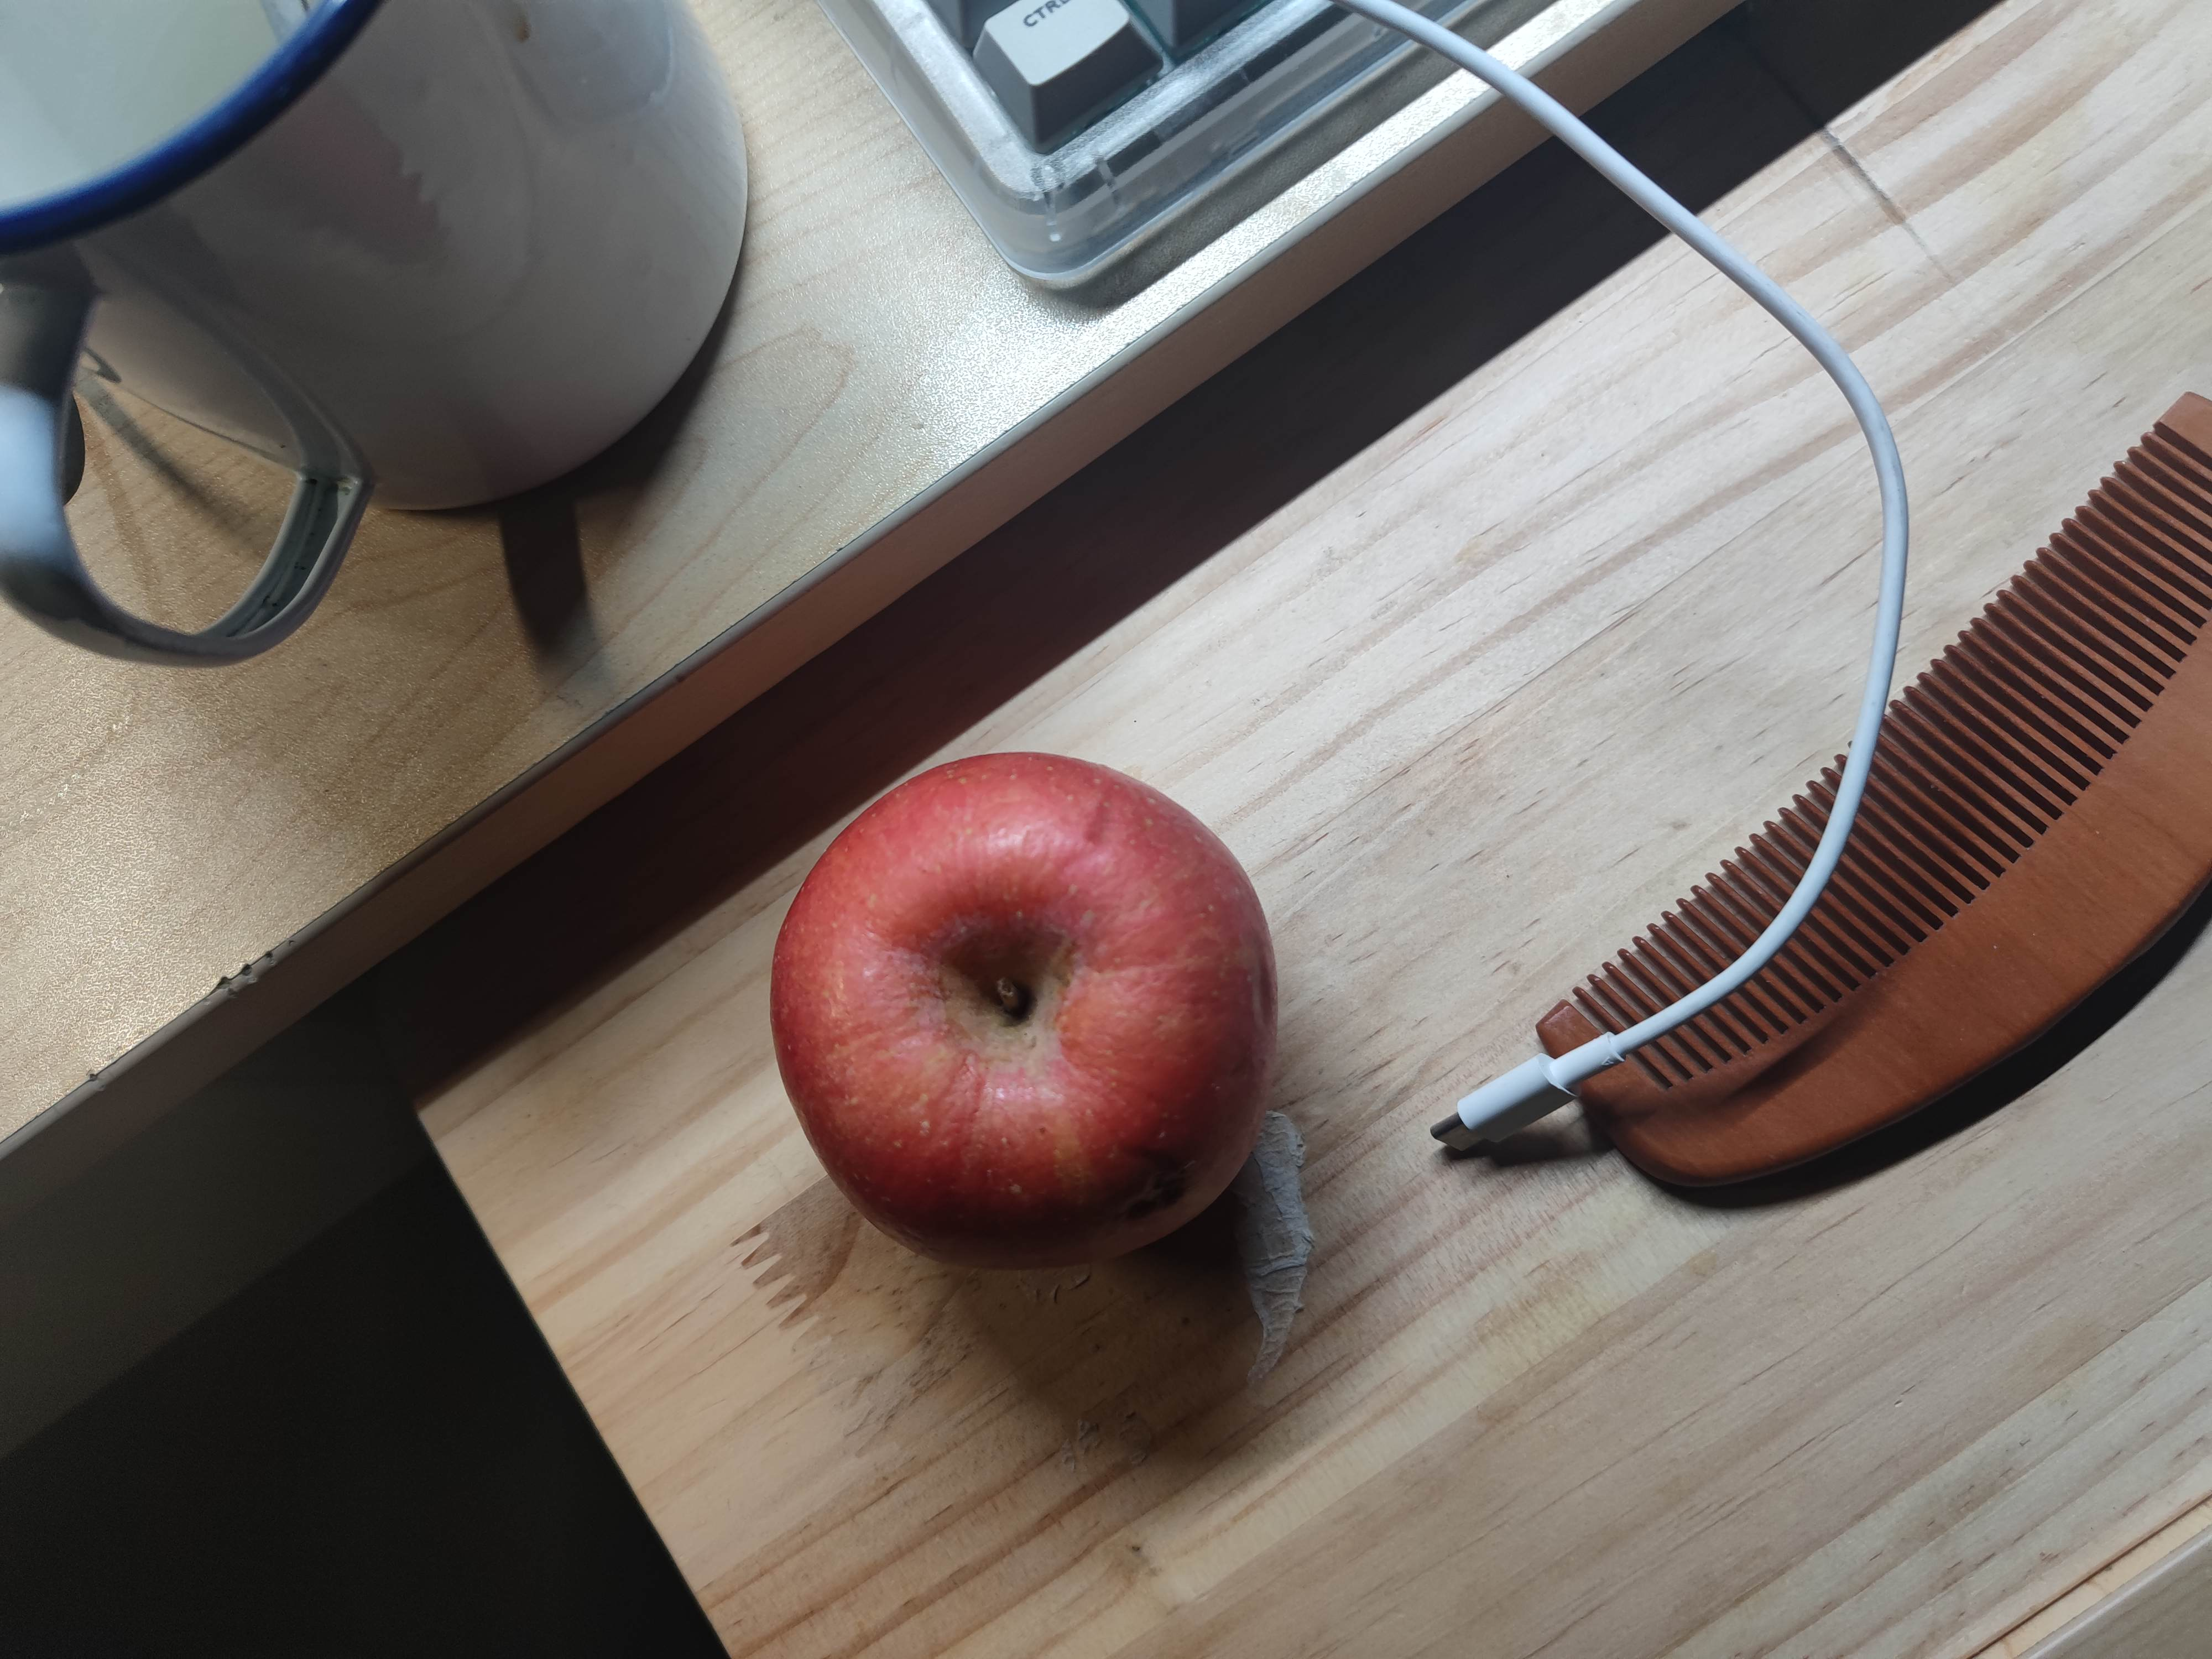apple: (773, 751, 1284, 1277)
